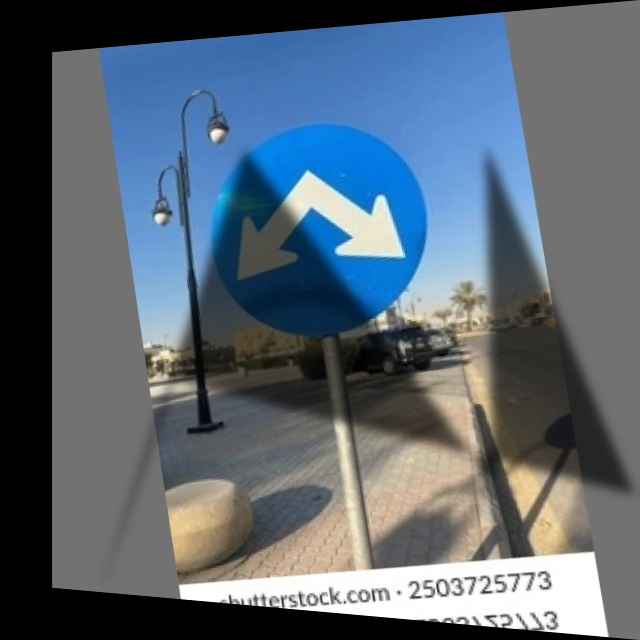Pass_Either_Side: (190, 95, 451, 350)
